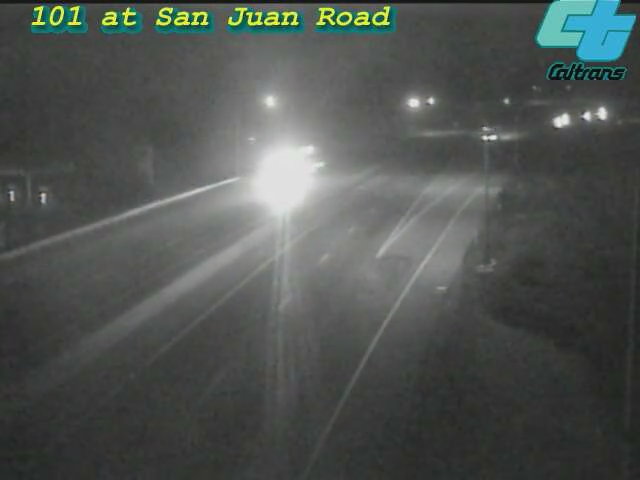vehicle: (241, 134, 321, 214), (533, 99, 583, 149), (467, 107, 517, 157), (540, 93, 590, 143), (576, 89, 626, 139), (561, 92, 611, 142)
